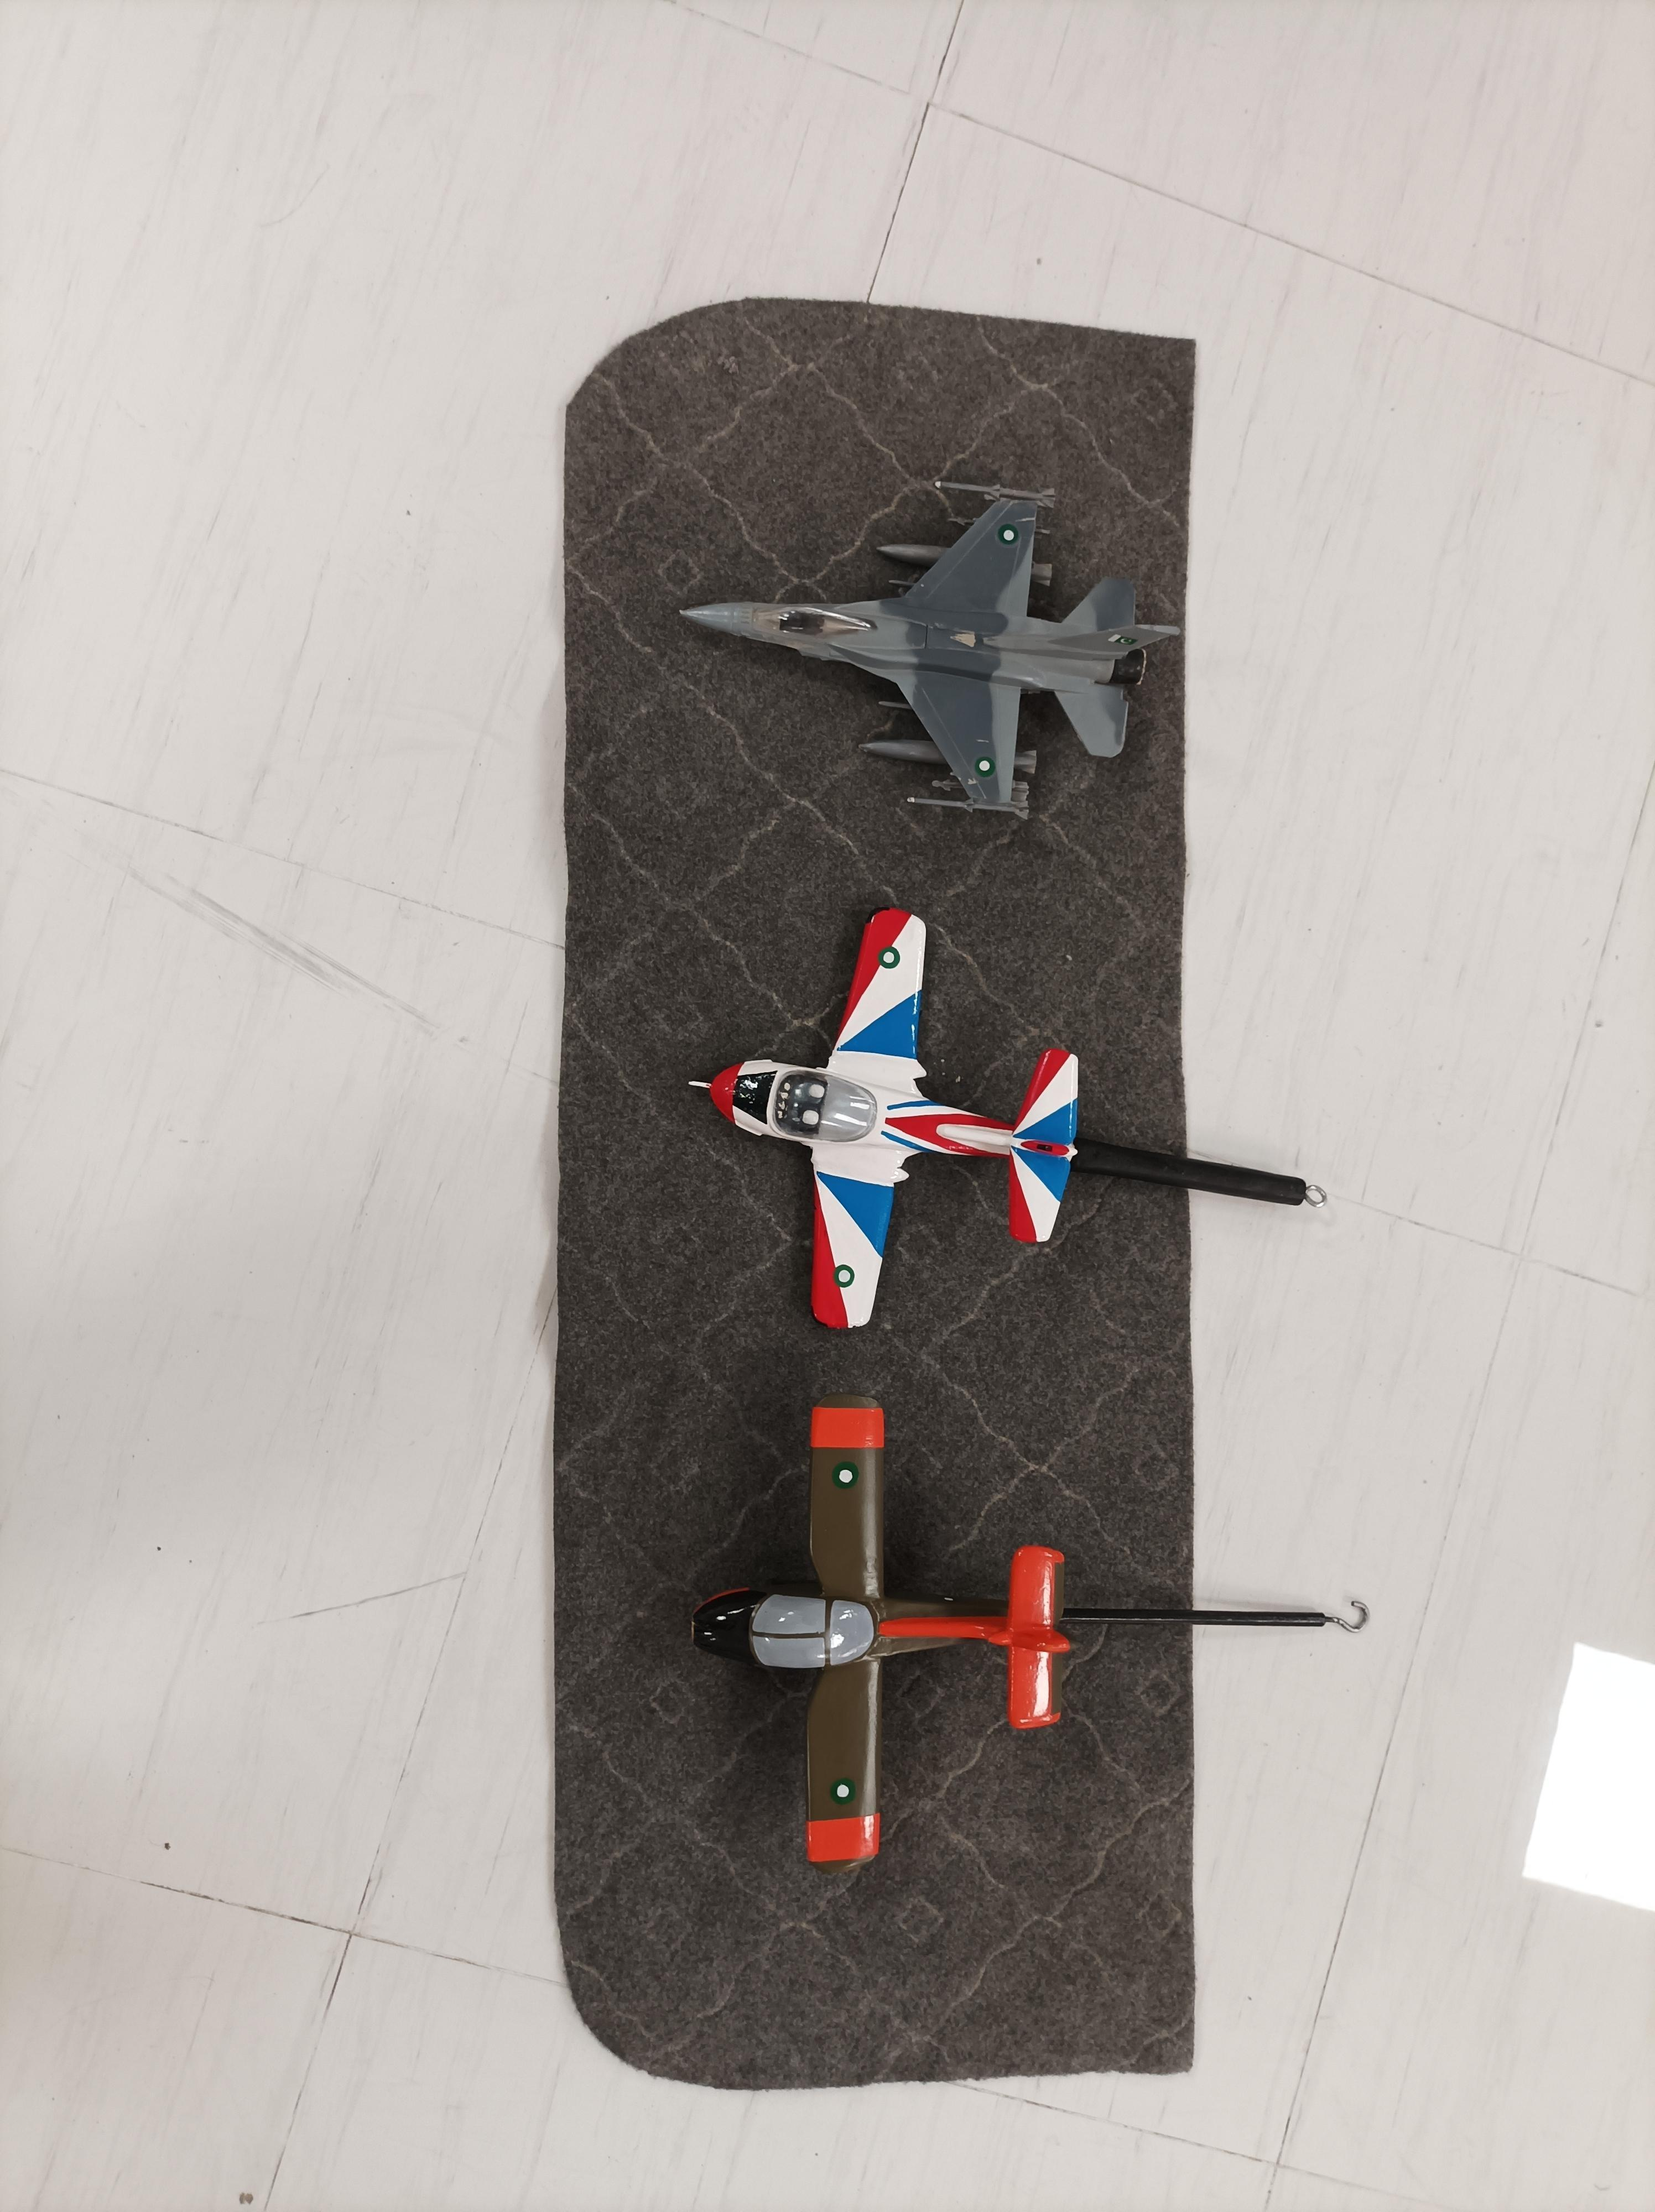Airplane: (675, 1388, 1099, 1917), (645, 459, 1206, 855), (688, 876, 1106, 1366)
